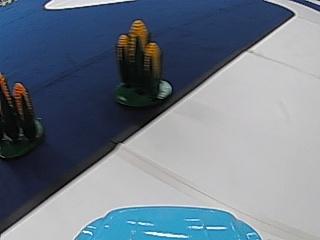corn: (114, 16, 166, 113), (1, 73, 42, 159)
